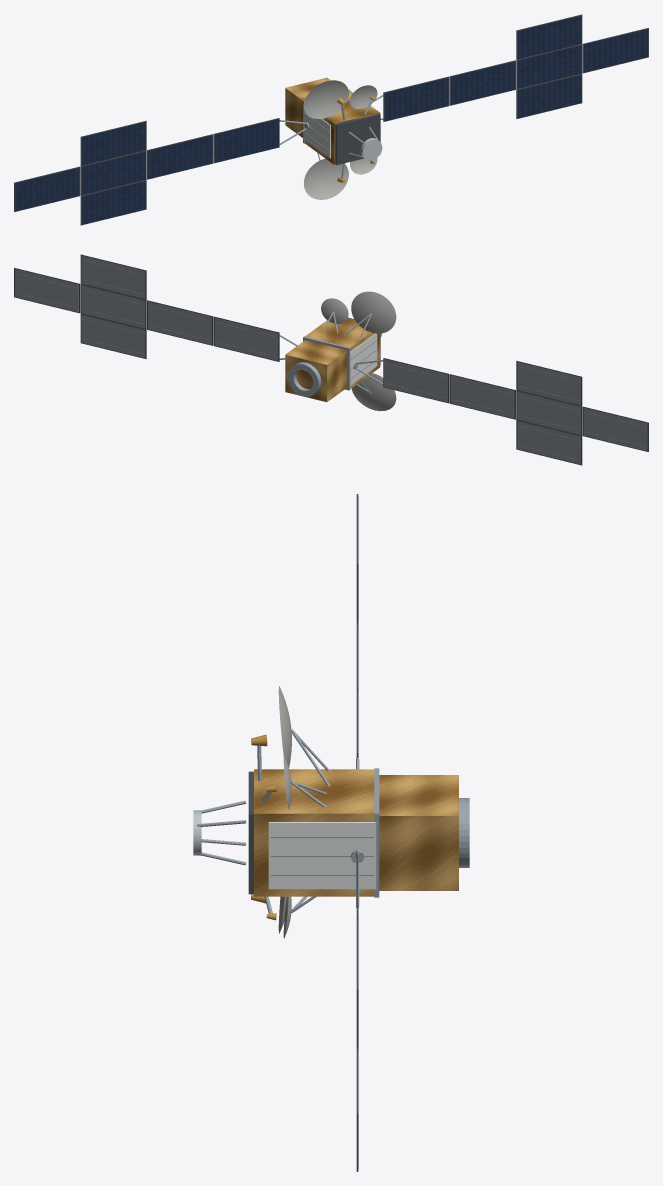
Rendered from ref-eurostar-3000x-41945.glb.
The picture shows the model from 3 angles, top to bottom: view 1: azimuth 30°, elevation 25°; view 2: azimuth 150°, elevation 25°; view 3: azimuth 270°, elevation 25°; orthographic projection. The views are drawn at different scales.
Visible parts, largest first — view 1: Solar cell panel (×12), Communications reflector (×4), Earth-facing deck, Service module, Payload module, Radiator face, Antenna tower platform; view 2: Rear array substrate (×12), Communications reflector (×3), Service module, Payload module, Radiator face, Launch adapter ring, Module interface; view 3: Service module, Payload module, Radiator face.
Part boxes in pixels (bbox=[...]): Solar cell panel (×12): bbox=[15, 15, 647, 224]; Communications reflector (×4): bbox=[303, 80, 377, 199]; Earth-facing deck: bbox=[335, 114, 380, 164]; Service module: bbox=[285, 77, 330, 137]; Payload module: bbox=[304, 90, 380, 165]; Radiator face: bbox=[303, 106, 330, 158]; Antenna tower platform: bbox=[360, 138, 382, 160]; Rear array substrate (×12): bbox=[15, 255, 647, 464]; Communications reflector (×3): bbox=[321, 291, 396, 411]; Service module: bbox=[285, 340, 346, 402]; Payload module: bbox=[305, 318, 380, 388]; Radiator face: bbox=[350, 333, 377, 385]; Launch adapter ring: bbox=[288, 362, 321, 396]; Module interface: bbox=[303, 336, 350, 390]; Service module: bbox=[379, 775, 458, 890]; Payload module: bbox=[254, 769, 374, 896]; Radiator face: bbox=[268, 822, 376, 889].
Bounding box in the file's own units: 38.96 × 6.93 × 7.35.
9 materials, 2 textured.
